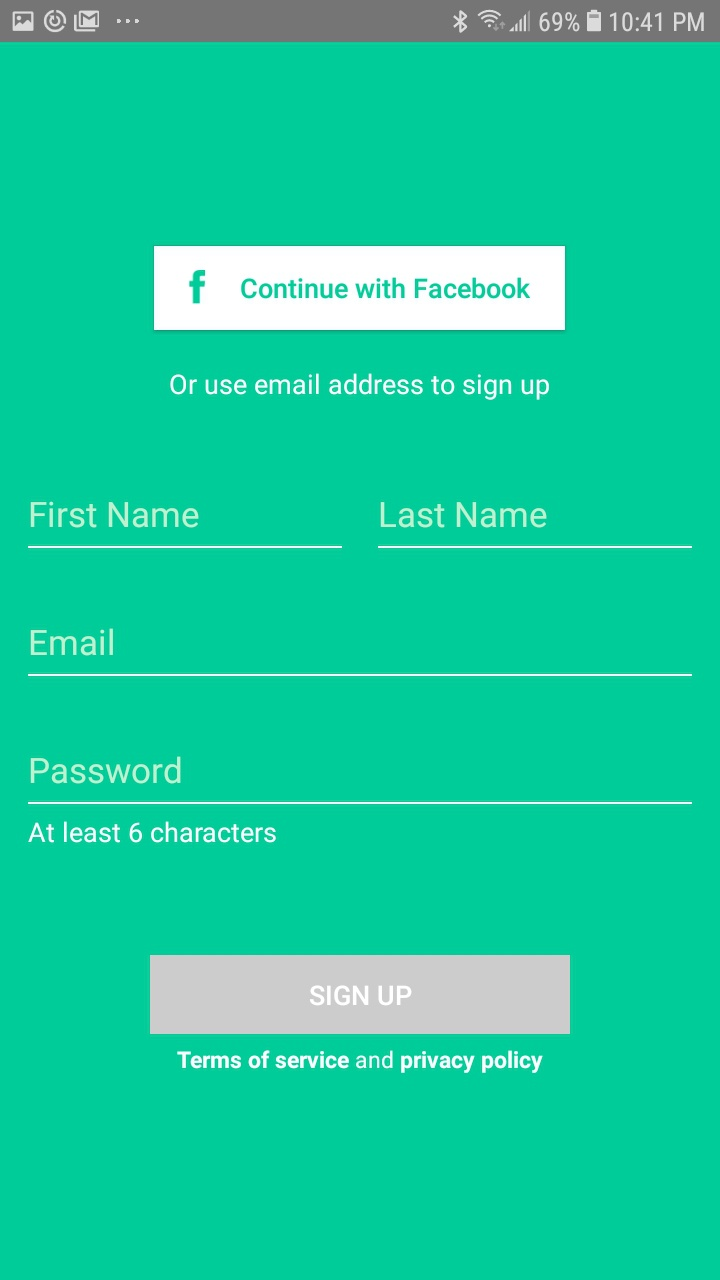EditText: (28, 756, 693, 806), (28, 628, 693, 678), (28, 501, 343, 550), (378, 501, 693, 549)
Text: (169, 374, 550, 402), (177, 1049, 544, 1074), (27, 820, 277, 844), (31, 501, 199, 529), (380, 501, 547, 529), (30, 756, 181, 785), (30, 629, 114, 657)
TextButton: (154, 246, 566, 332), (150, 954, 571, 1035)
UpperTaskBar: (1, 1, 720, 43)
